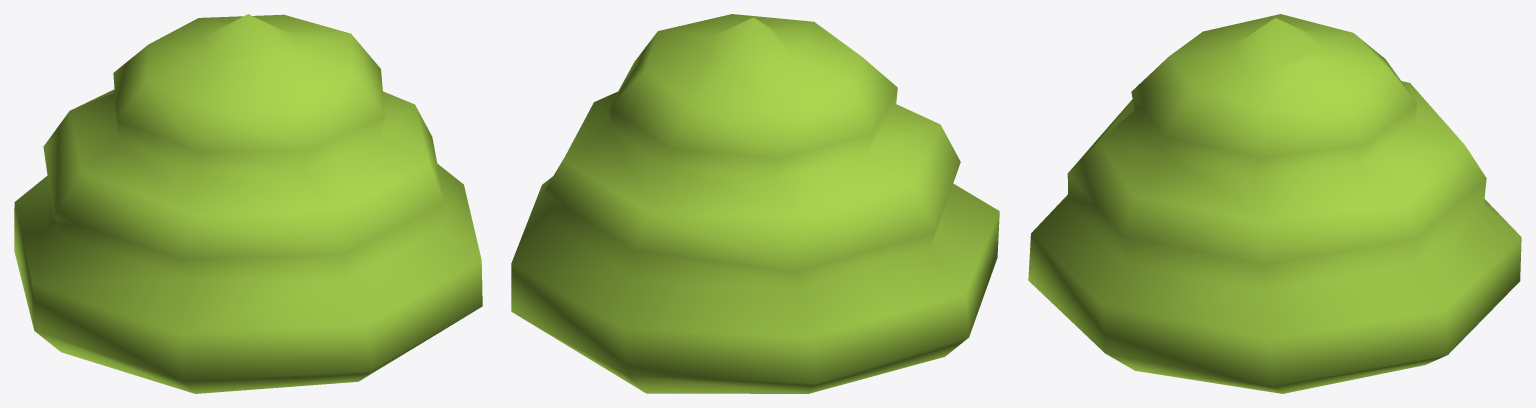
Rendered from Arbusto.fbx.
3 views of the same model, side by side, from view 1: azimuth 30°, elevation 25°; view 2: azimuth 150°, elevation 25°; view 3: azimuth 270°, elevation 25° (orthographic).
Visible parts, largest first — view 1: Arbusto; view 2: Arbusto; view 3: Arbusto.
Part boxes in pixels (x1,y1,x2,y2): Arbusto: (14,14,482,393); Arbusto: (511,14,999,393); Arbusto: (1028,14,1521,393).
Size of the model in its own units: 133 by 86.32 by 133.
